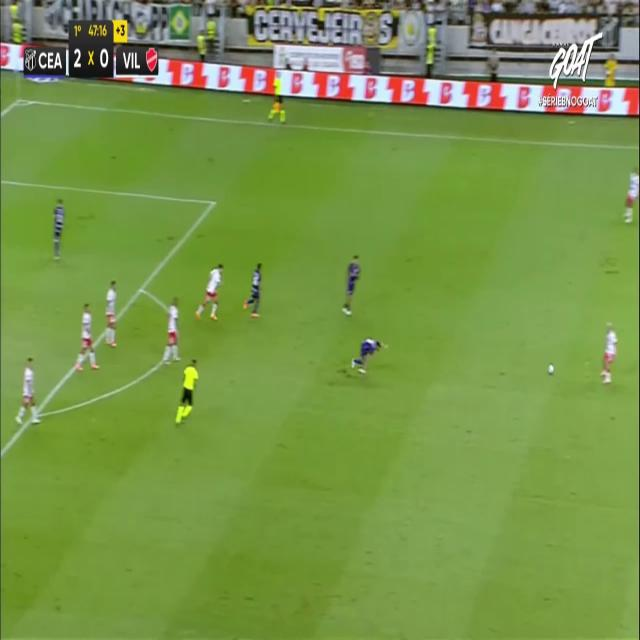ball: (548, 364, 554, 374)
player: (15, 355, 41, 425), (195, 262, 224, 321), (75, 302, 99, 371), (350, 337, 388, 374), (162, 295, 181, 364), (341, 254, 361, 316), (620, 167, 640, 227), (243, 262, 263, 318), (600, 321, 618, 383), (105, 279, 117, 347), (52, 198, 64, 260)
referee: (175, 357, 199, 424), (265, 72, 288, 126)
